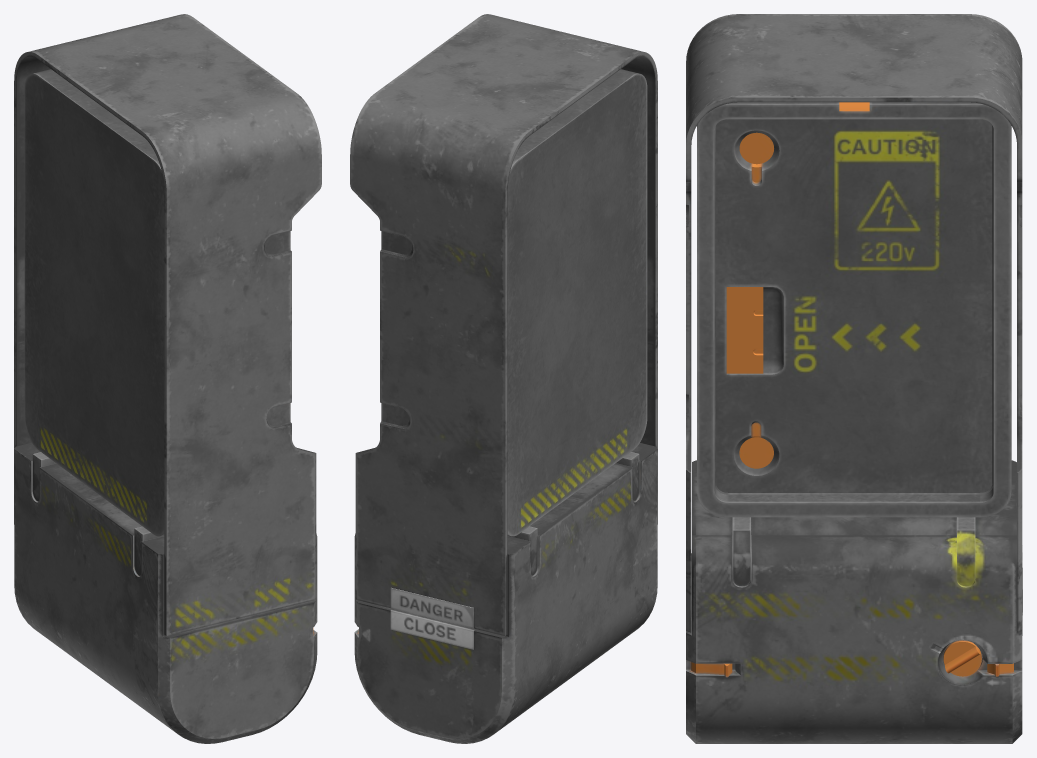
Rendered from Contro panel.fbx.
3 renders of one model, left to right at view 1: azimuth 30°, elevation 25°; view 2: azimuth 150°, elevation 25°; view 3: azimuth 270°, elevation 25°, orthographic. The views are drawn at different scales.
Visible parts, largest first — view 1: DistributionBoard; view 2: DistributionBoard; view 3: DistributionBoard.
Boxes of the visible parts, x1,y1,x2,y2 form: DistributionBoard: [14, 14, 321, 743]; DistributionBoard: [350, 14, 657, 743]; DistributionBoard: [686, 14, 1022, 743].
Size of the model in its own units: 50.39 by 180 by 81.64.
1 material, 1 textured.
